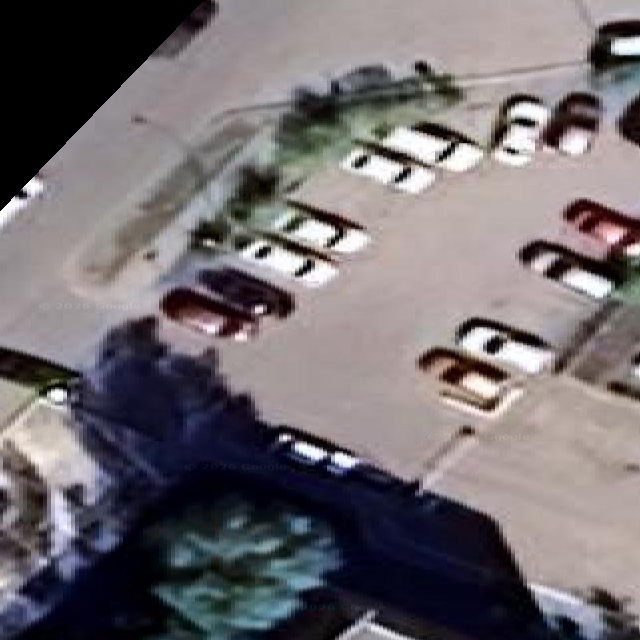car: (266, 426, 418, 495), (417, 348, 522, 415), (519, 241, 620, 299), (234, 233, 337, 287), (455, 318, 554, 373), (160, 287, 257, 340), (381, 122, 483, 171), (198, 266, 294, 318), (272, 202, 368, 253), (340, 143, 435, 193), (563, 199, 639, 258), (270, 427, 361, 474), (491, 94, 549, 166), (152, 0, 217, 58), (543, 92, 602, 155), (589, 19, 640, 71), (0, 177, 44, 227), (617, 94, 640, 146)
